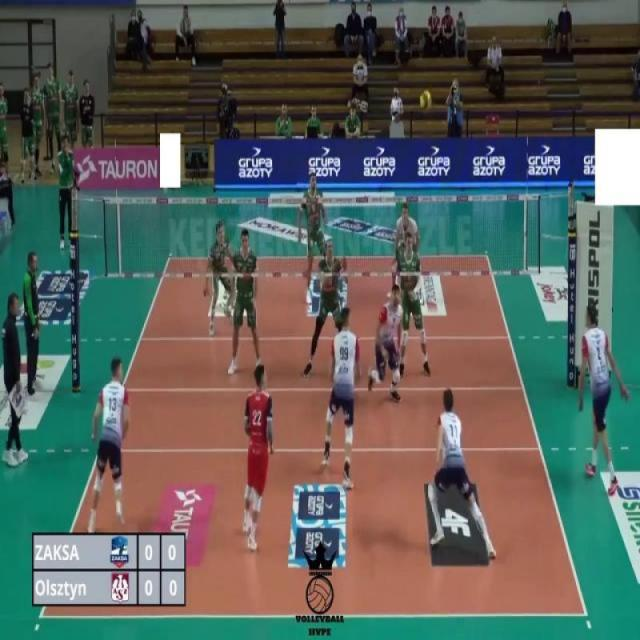volleyball: (419, 88, 433, 113)
